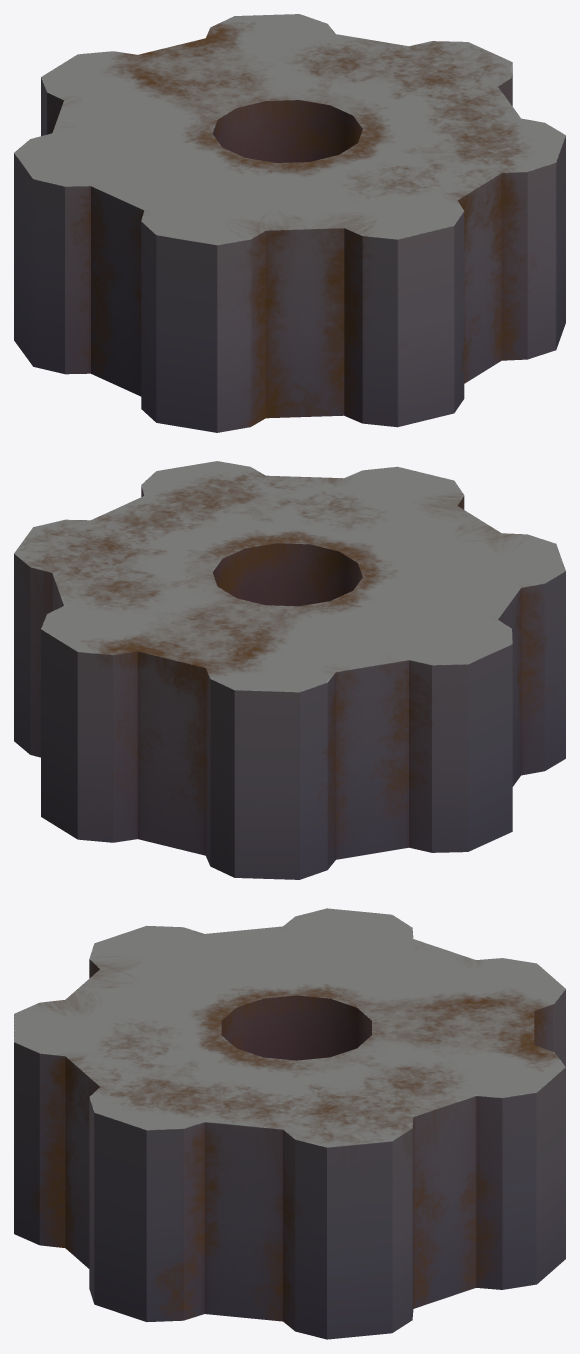
Rendered from Gear.glb.
3 views of the same model, one above another, from view 1: azimuth 30°, elevation 25°; view 2: azimuth 150°, elevation 25°; view 3: azimuth 270°, elevation 25° (orthographic). The views are drawn at different scales.
Parts seen in each view (by area): view 1: Gear; view 2: Gear; view 3: Gear.
Boxes of the visible parts, x1,y1,x2,y2 form: Gear: (14,14,565,432); Gear: (14,461,565,879); Gear: (14,908,565,1339).
Size of the model in its own units: 0.2333 by 0.0873 by 0.2274.
Materials: 1 (1 with a texture image).
